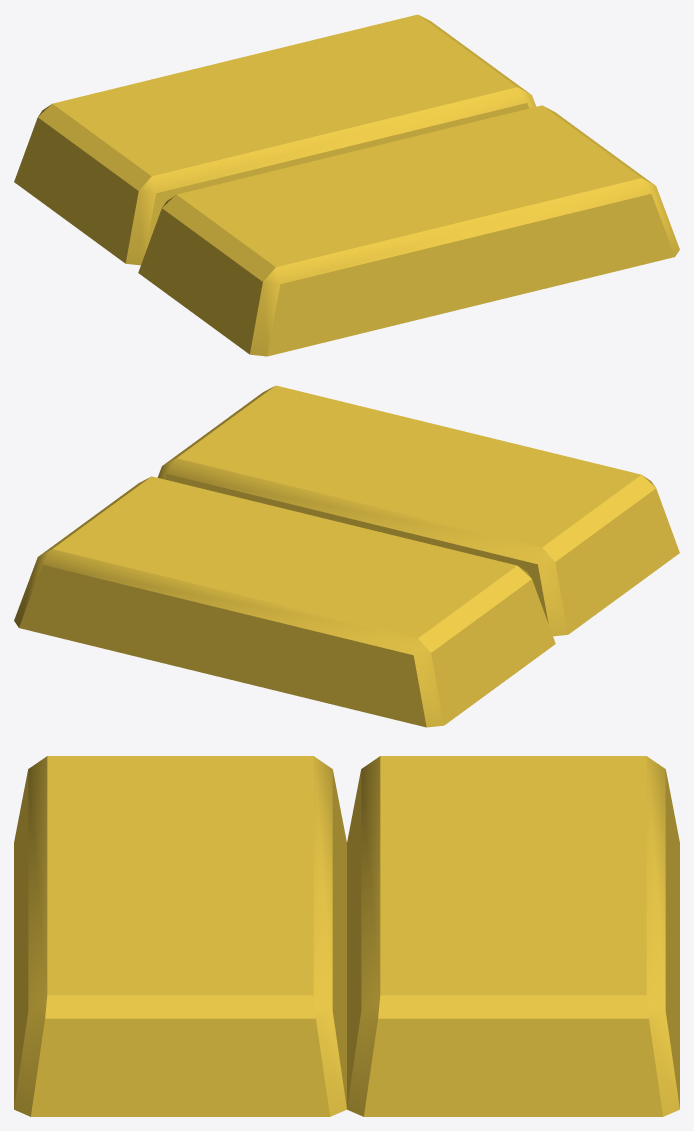
File: GoldbarDoubleBlockout_RB.fbx
3 renders of one model, top to bottom at view 1: azimuth 30°, elevation 25°; view 2: azimuth 150°, elevation 25°; view 3: azimuth 270°, elevation 25°, orthographic. The views are drawn at different scales.
Visible parts, largest first — view 1: GoldbarDoubleBlockout_RB; view 2: GoldbarDoubleBlockout_RB; view 3: GoldbarDoubleBlockout_RB.
Part boxes in pixels (x1,y1,x2,y2): GoldbarDoubleBlockout_RB: (14,14,679,356); GoldbarDoubleBlockout_RB: (14,385,679,727); GoldbarDoubleBlockout_RB: (14,756,679,1116).
Size of the model in its own units: 120 by 20 by 120.
